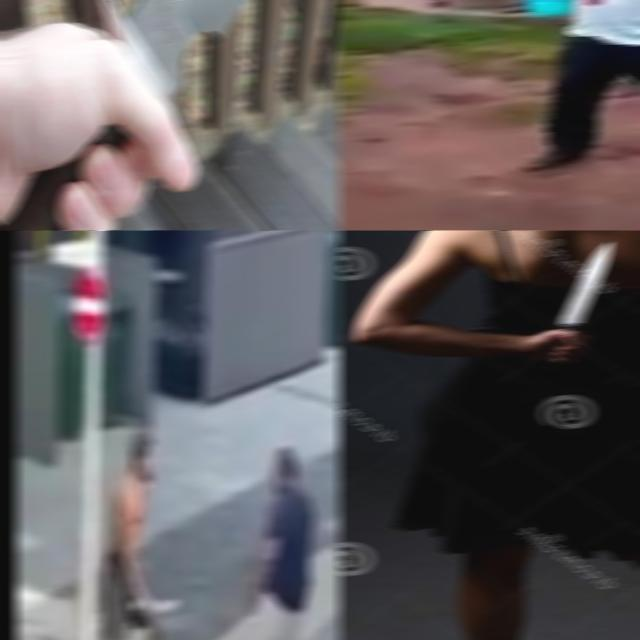Knife: (101, 0, 249, 117), (558, 242, 612, 328), (130, 600, 180, 611)
Knife_Handle: (128, 592, 178, 610)
